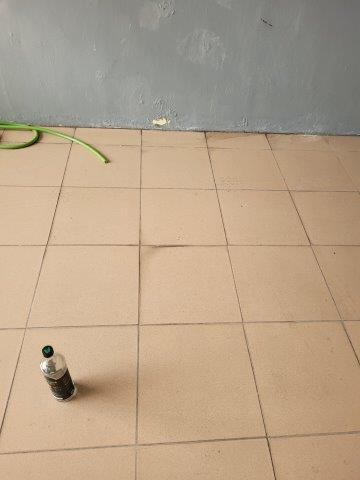botolkaca: (41, 345, 77, 402)
